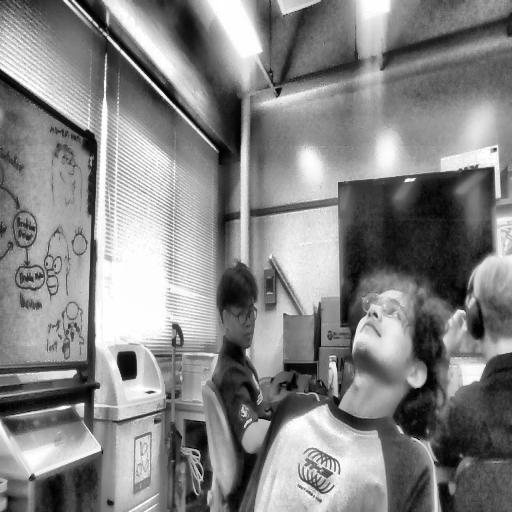Daifuku: (349, 271, 438, 436)
Not Daifuku: (464, 258, 512, 364), (220, 266, 262, 354)
